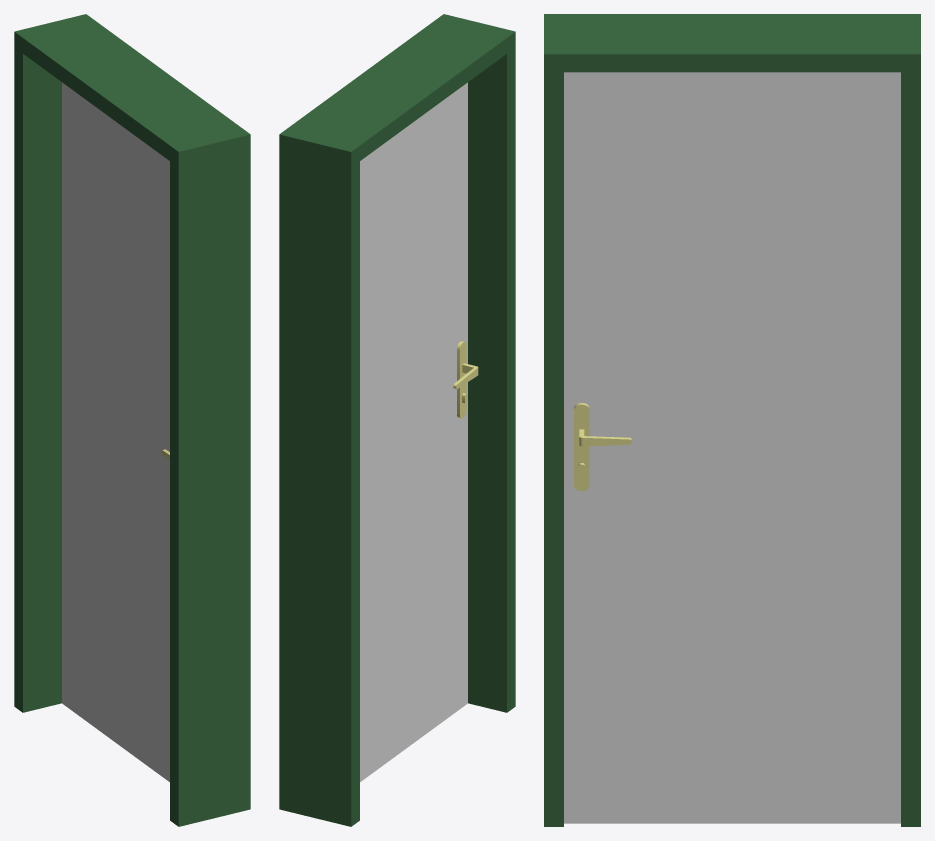
File: MESH_ENV_[Porta_Madeira_2.1m x 85cm]_03.fbx
3 views of the same model, side by side, from view 1: azimuth 30°, elevation 25°; view 2: azimuth 150°, elevation 25°; view 3: azimuth 270°, elevation 25° (orthographic). The views are drawn at different scales.
Visible parts, largest first — view 1: MESH_ENV_[Porta_Madeira_2.1m x 85cm]_03_LOD0; view 2: MESH_ENV_[Porta_Madeira_2.1m x 85cm]_03_LOD0; view 3: MESH_ENV_[Porta_Madeira_2.1m x 85cm]_03_LOD0.
Boxes of the visible parts, x1,y1,x2,y2 form: MESH_ENV_[Porta_Madeira_2.1m x 85cm]_03_LOD0: (14, 14, 250, 826); MESH_ENV_[Porta_Madeira_2.1m x 85cm]_03_LOD0: (279, 14, 515, 826); MESH_ENV_[Porta_Madeira_2.1m x 85cm]_03_LOD0: (544, 14, 920, 826).
Size of what is drawn, in the model's own units: 28 by 215 by 95.
